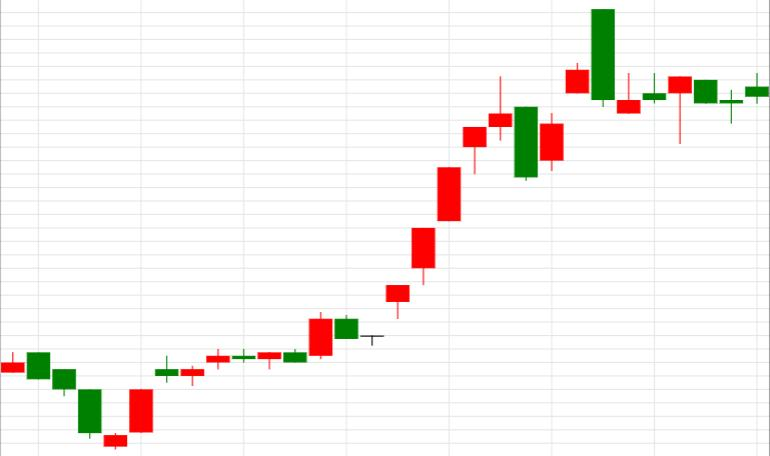bearish_engulfing_fall: (386, 9, 616, 319)
